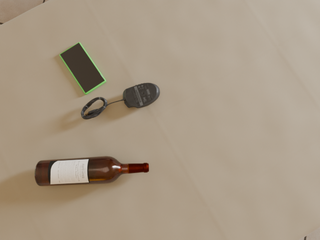bottle: (35, 156, 149, 186)
mouse: (121, 83, 160, 108)
phone: (60, 42, 106, 94)
